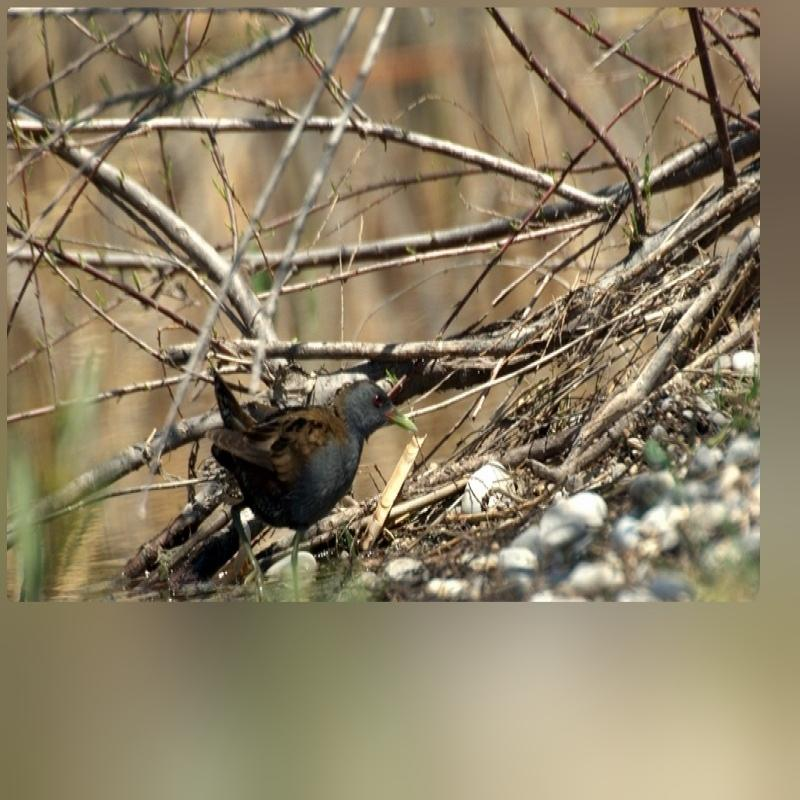little crake: (196, 356, 428, 546)
